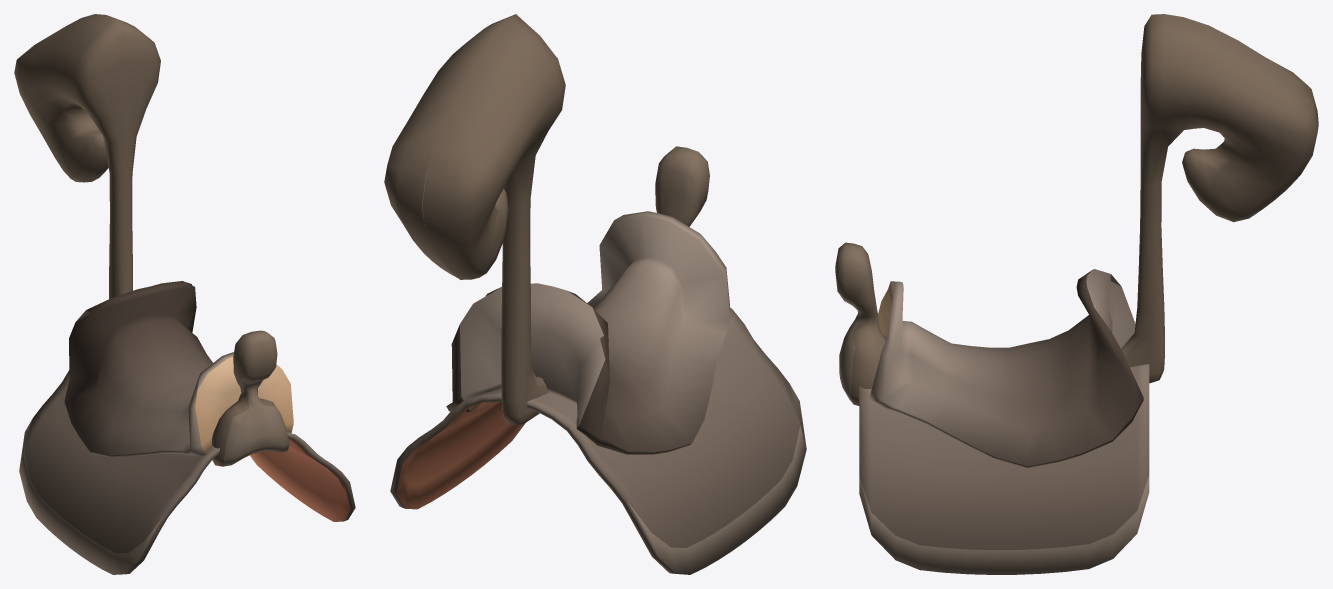
The model's file is Mount_Fantasy.glb.
3 renders of one model, left to right at view 1: azimuth 30°, elevation 25°; view 2: azimuth 150°, elevation 25°; view 3: azimuth 270°, elevation 25°, orthographic. The views are drawn at different scales.
Parts seen in each view (by area): view 1: Horn.001, Seat.001, Skirt.001; view 2: Horn.001, Seat.001, Skirt.001; view 3: Skirt.001, Horn.001, Seat.001.
Part boxes in pixels (x1,y1,x2,y2): Horn.001: [14, 14, 289, 466]; Seat.001: [64, 281, 293, 457]; Skirt.001: [19, 370, 355, 574]; Horn.001: [384, 14, 709, 424]; Seat.001: [446, 211, 729, 454]; Skirt.001: [390, 307, 806, 574]; Skirt.001: [859, 364, 1149, 574]; Horn.001: [835, 14, 1318, 405]; Seat.001: [869, 269, 1143, 468].
Size of the model in its own units: 0.6976 by 1.33 by 1.17.
Materials: 1 (1 with a texture image).
